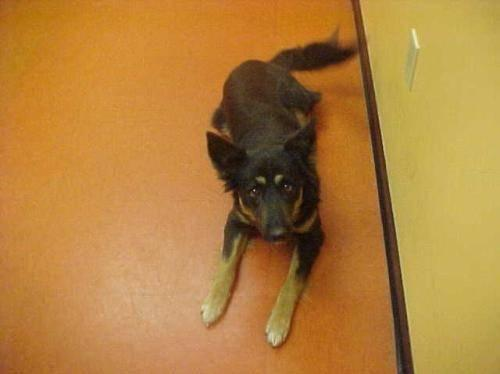dog: (202, 36, 355, 346)
